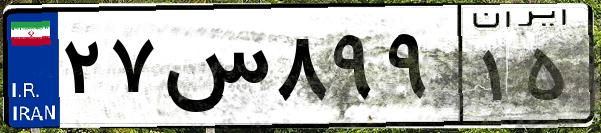1: (475, 38, 525, 113)
2: (57, 26, 110, 100)
5: (525, 38, 570, 115)
7: (110, 28, 158, 98)
8: (270, 28, 330, 110)
9: (385, 28, 445, 110), (330, 28, 385, 110)
س: (158, 20, 270, 120)
